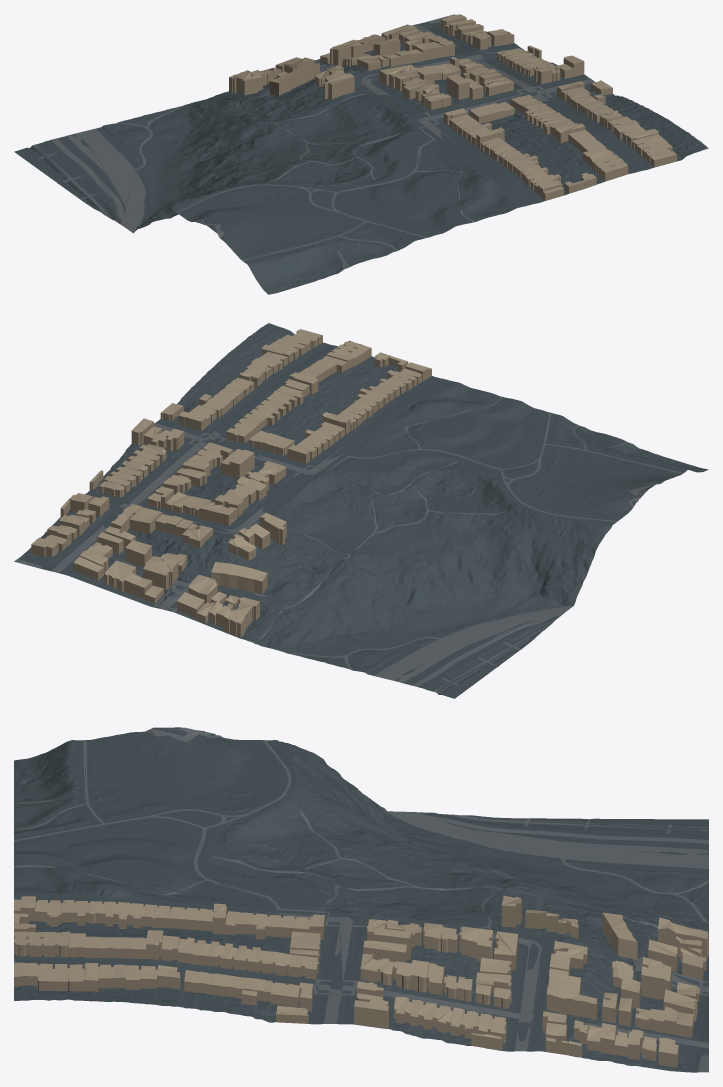
Rendered from epsg26910-1414-10888.lod0.glb.
3 views of the same model, one above another, from view 1: azimuth 30°, elevation 25°; view 2: azimuth 150°, elevation 25°; view 3: azimuth 270°, elevation 25° (orthographic). The views are drawn at different scales.
Visible parts, largest first — view 1: epsg26910-1414-10888-lod0; view 2: epsg26910-1414-10888-lod0; view 3: epsg26910-1414-10888-lod0.
Part boxes in pixels (bbox=[...]): epsg26910-1414-10888-lod0: bbox=[14, 14, 708, 294]; epsg26910-1414-10888-lod0: bbox=[14, 323, 708, 698]; epsg26910-1414-10888-lod0: bbox=[14, 727, 708, 1072].
Size of the model in its own units: 384 by 72.46 by 384.
